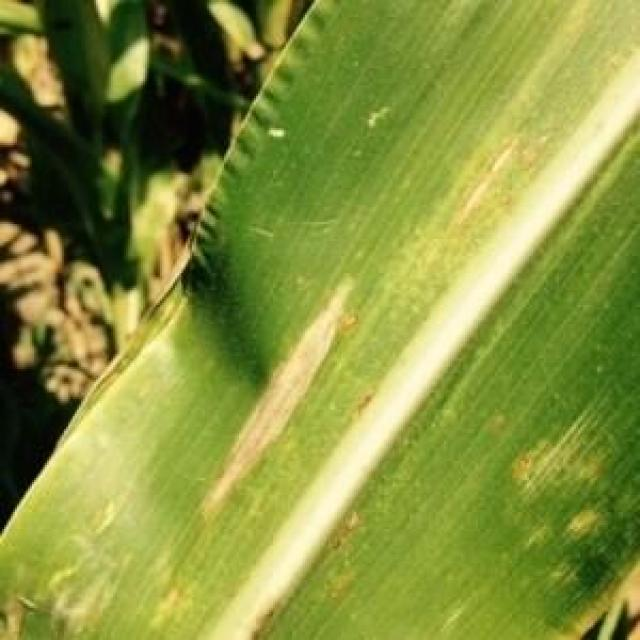blight: (174, 257, 370, 517)
